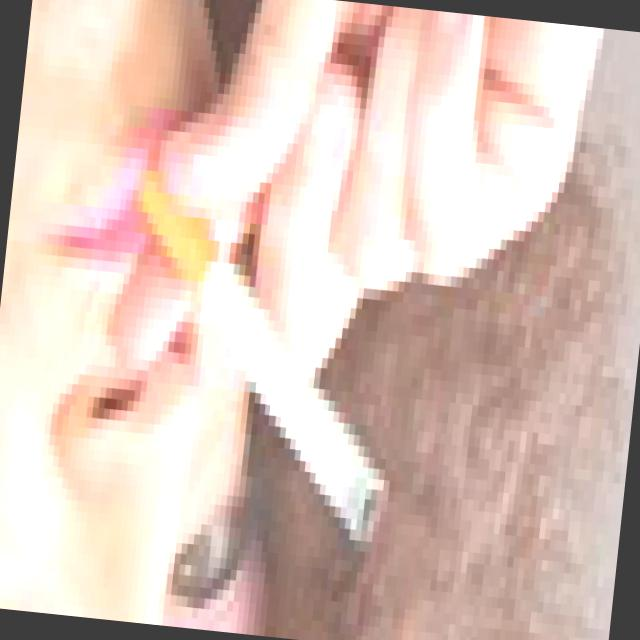cigarette: (93, 128, 421, 560)
